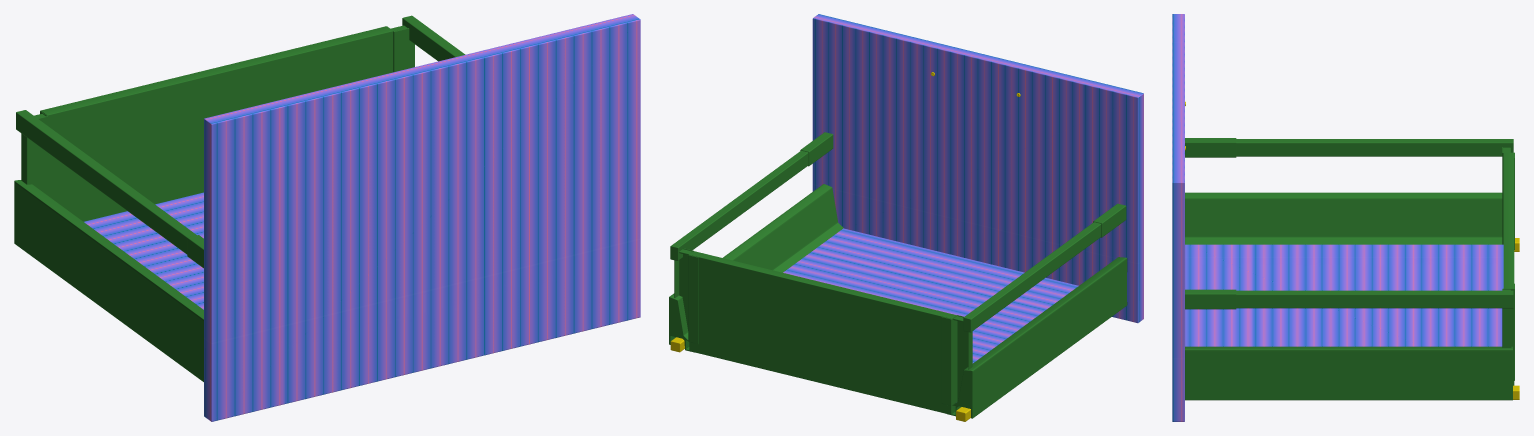
File: SM_Kitchen_09_Drawer_03.fbx
3 renders of one model, left to right at view 1: azimuth 30°, elevation 25°; view 2: azimuth 150°, elevation 25°; view 3: azimuth 270°, elevation 25°, orthographic. The views are drawn at different scales.
Parts seen in each view (by area): view 1: SM_Kitchen_09_Drawer_03; view 2: SM_Kitchen_09_Drawer_03; view 3: SM_Kitchen_09_Drawer_03.
Part boxes in pixels (bbox=[...]): SM_Kitchen_09_Drawer_03: bbox=[14, 14, 640, 421]; SM_Kitchen_09_Drawer_03: bbox=[669, 14, 1143, 421]; SM_Kitchen_09_Drawer_03: bbox=[1172, 14, 1519, 421].
Size of the model in its own units: 59.69 by 39.6 by 51.99.
4 materials, 2 textured.
